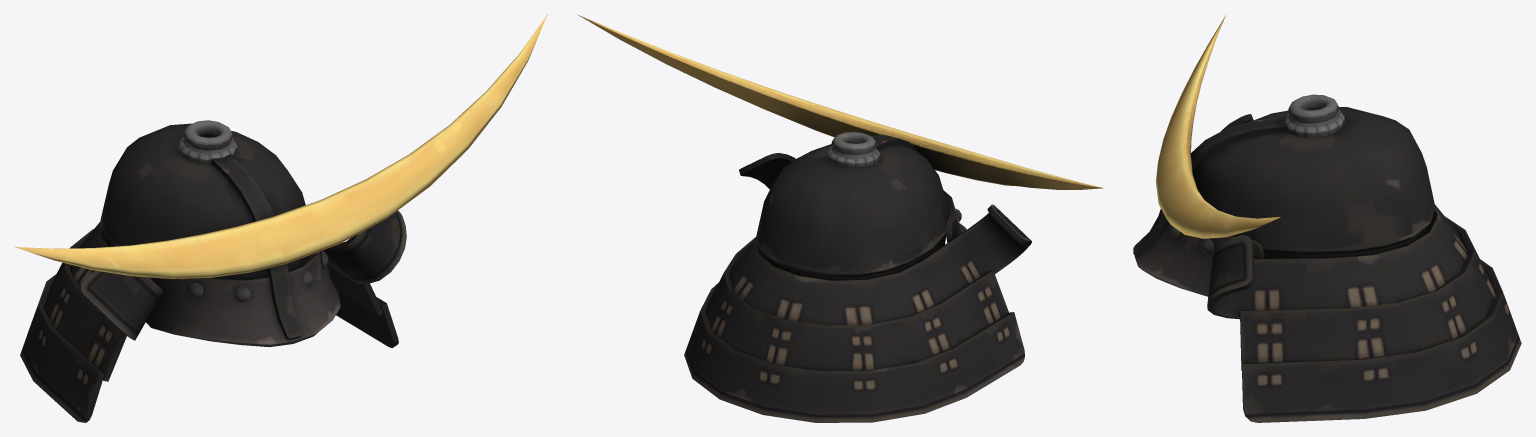
File: ShogunHelmet_WorldItem.fbx
3 views of the same model, side by side, from view 1: azimuth 30°, elevation 25°; view 2: azimuth 150°, elevation 25°; view 3: azimuth 270°, elevation 25° (orthographic). The views are drawn at different scales.
Visible parts, largest first — view 1: Body_parts_dmx_demo_shogun_kabuto_dmx_mesh_0; view 2: Body_parts_dmx_demo_shogun_kabuto_dmx_mesh_0; view 3: Body_parts_dmx_demo_shogun_kabuto_dmx_mesh_0.
Boxes of the visible parts, bbox=[...] form: Body_parts_dmx_demo_shogun_kabuto_dmx_mesh_0: bbox=[15, 14, 547, 422]; Body_parts_dmx_demo_shogun_kabuto_dmx_mesh_0: bbox=[577, 14, 1103, 422]; Body_parts_dmx_demo_shogun_kabuto_dmx_mesh_0: bbox=[1133, 15, 1521, 422].
Size of the model in its own units: 0.3569 by 0.1721 by 0.208.
